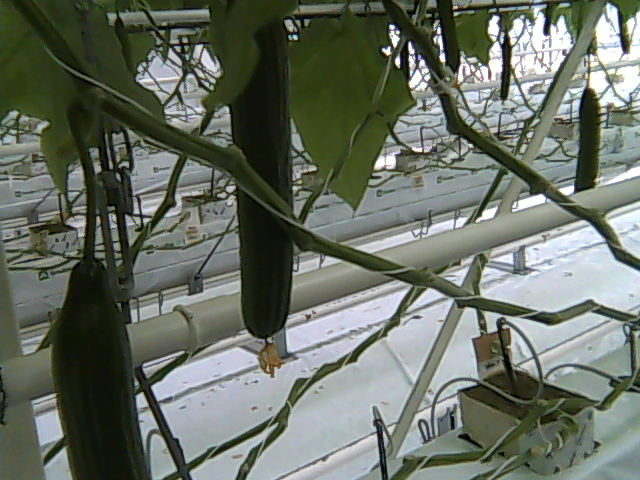concombre: (233, 12, 304, 383), (48, 252, 157, 480)
